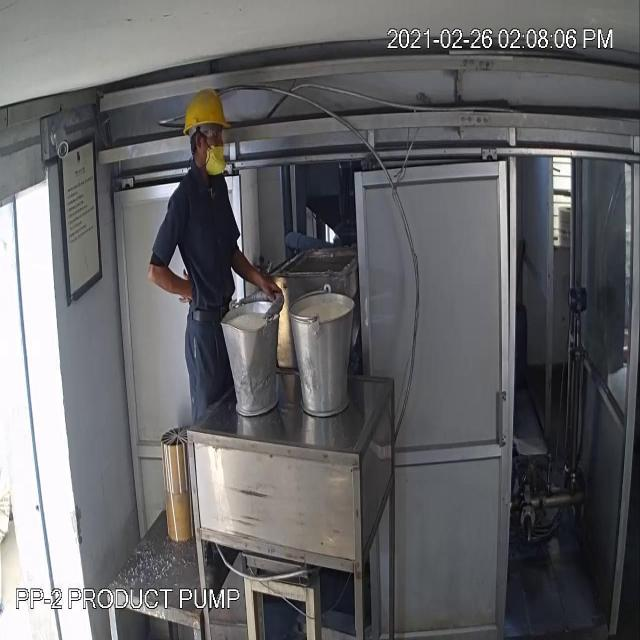hard-hat: (175, 93, 233, 137)
person: (150, 85, 254, 527)
